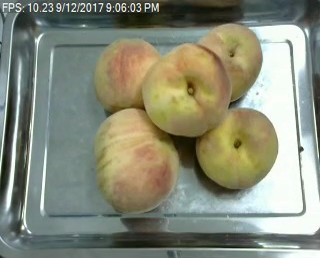Peach: (93, 107, 180, 214), (141, 41, 231, 137), (196, 106, 278, 189), (189, 22, 262, 105), (93, 36, 169, 113)
